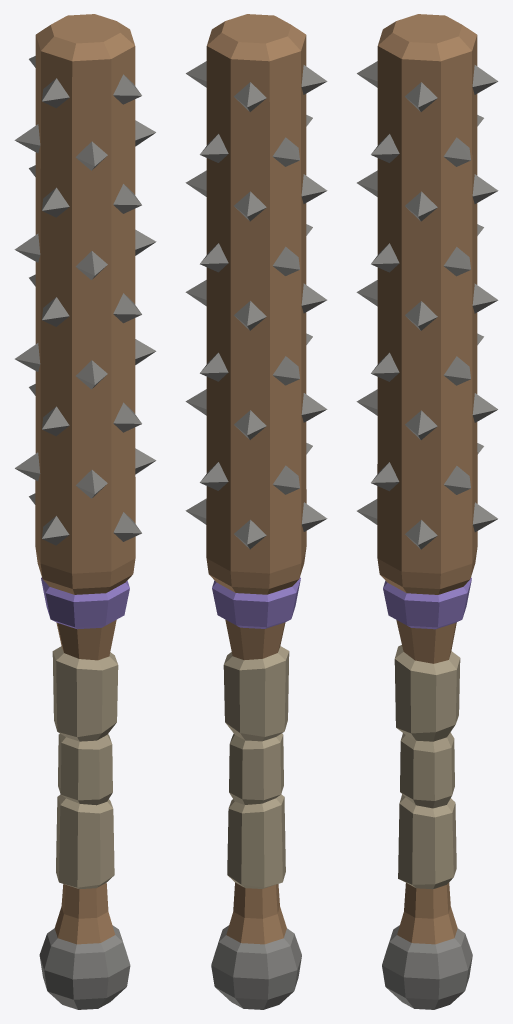
Rendered from SM_pwe_china_club_01a.fbx.
3 renders of one model, left to right at view 1: azimuth 30°, elevation 25°; view 2: azimuth 150°, elevation 25°; view 3: azimuth 330°, elevation 25°, orthographic.
Parts seen in each view (by area): view 1: SM_pwe_china_club_01a; view 2: SM_pwe_china_club_01a; view 3: SM_pwe_china_club_01a.
Part boxes in pixels (<box>): SM_pwe_china_club_01a: <box>14,14,156,1009</box>; SM_pwe_china_club_01a: <box>185,14,327,1009</box>; SM_pwe_china_club_01a: <box>356,14,498,1009</box>.
Bounding box in the file's own units: 10.98 × 88.75 × 10.98.
